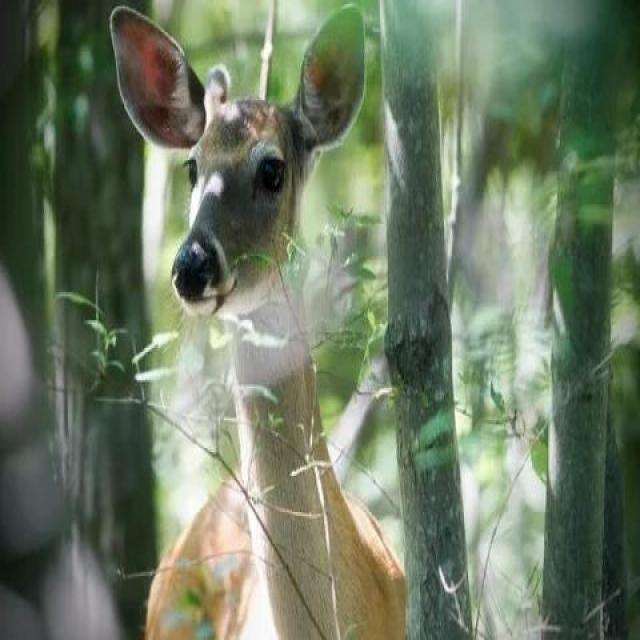deer: (124, 65, 397, 638)
